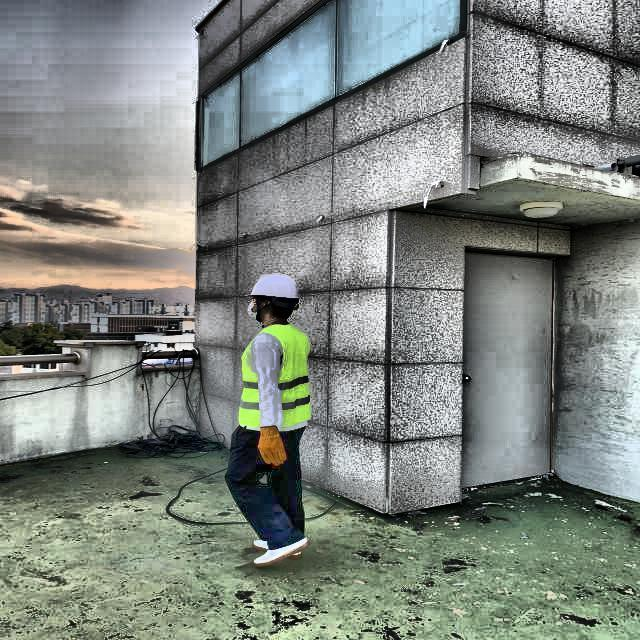safety_helmet: (245, 275, 301, 300)
safety_jacket: (239, 324, 311, 427)
